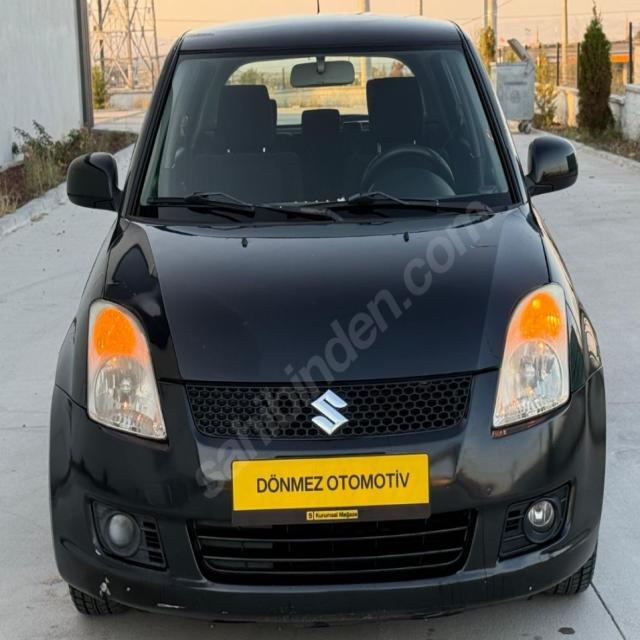suzuki: (307, 384, 353, 439)
